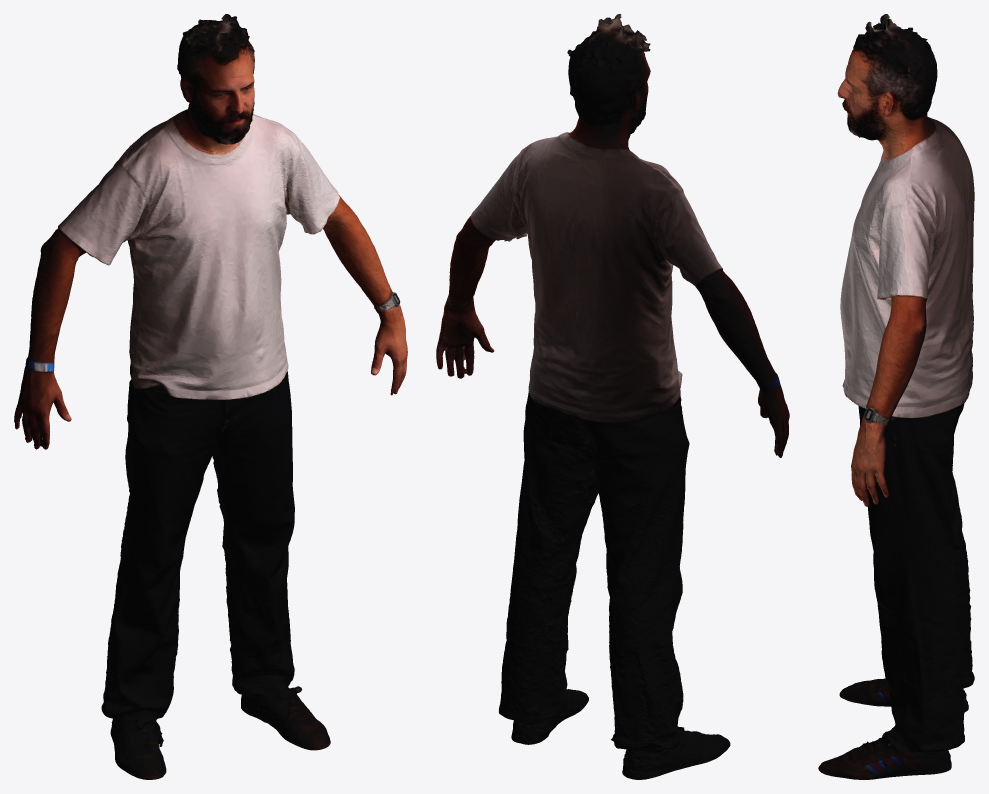
The model's file is pablo.glb.
The picture shows the model from 3 angles, left to right: view 1: azimuth 30°, elevation 25°; view 2: azimuth 150°, elevation 25°; view 3: azimuth 270°, elevation 25°; orthographic projection.
Visible parts, largest first — view 1: Mesh_0_Part_0; view 2: Mesh_0_Part_0; view 3: Mesh_0_Part_0.
Boxes of the visible parts, x1,y1,x2,y2 form: Mesh_0_Part_0: (14,14,407,779); Mesh_0_Part_0: (436,14,789,779); Mesh_0_Part_0: (818,14,974,779).
Size of the model in its own units: 1 by 1.88 by 0.3712.
Materials: 1 (1 with a texture image).
